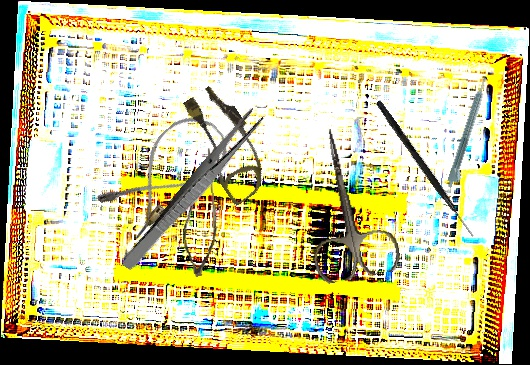Cannula: (94, 103, 238, 243), (171, 80, 282, 207)
Dressing Forceps: (119, 105, 266, 276)
Handpiece: (445, 76, 494, 191)
Hook Surgical: (373, 99, 478, 239)
Iris Scissors: (289, 120, 403, 286)
Micro Scissor: (175, 144, 227, 278)
